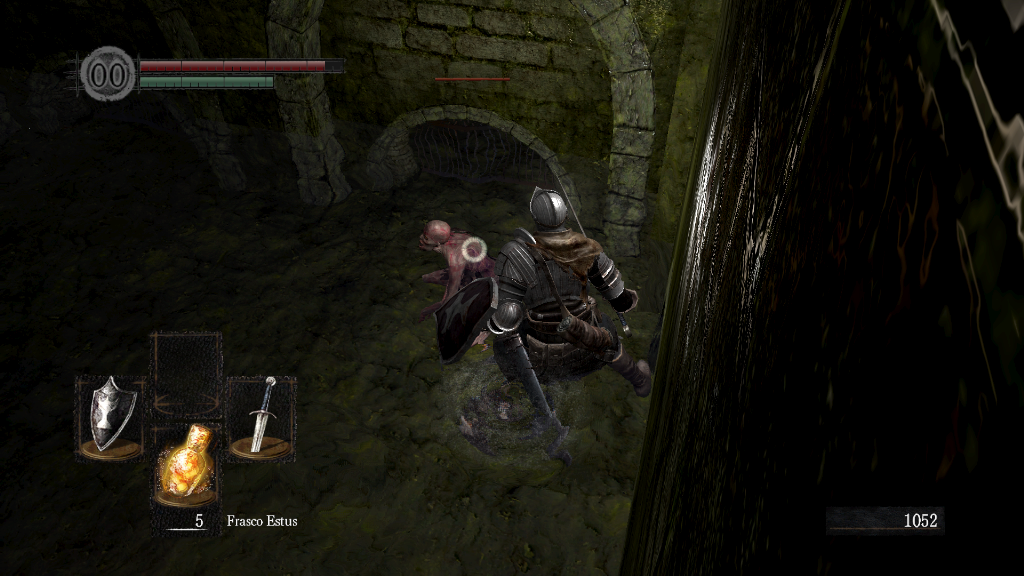health: (138, 58, 343, 71)
hollow: (413, 221, 505, 314)
humanity: (80, 45, 136, 102)
player: (432, 177, 654, 466)
souls: (825, 506, 945, 536)
stamina: (138, 74, 274, 88)
